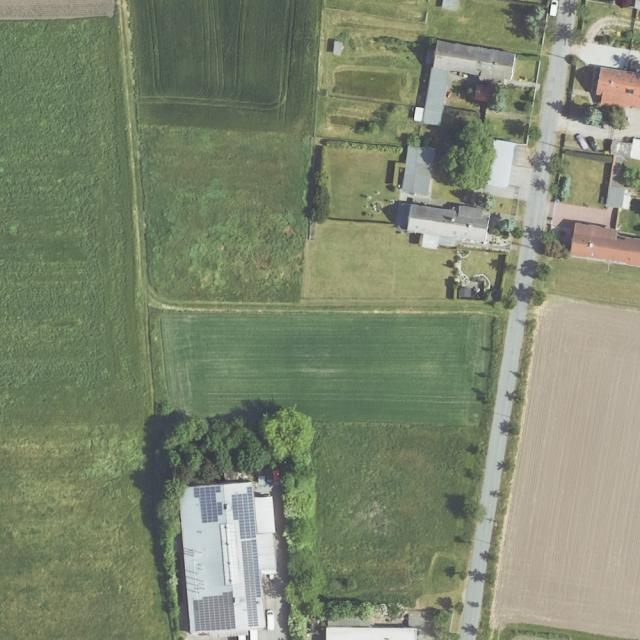PV: (234, 486, 261, 626), (193, 590, 236, 631), (194, 486, 223, 523)
